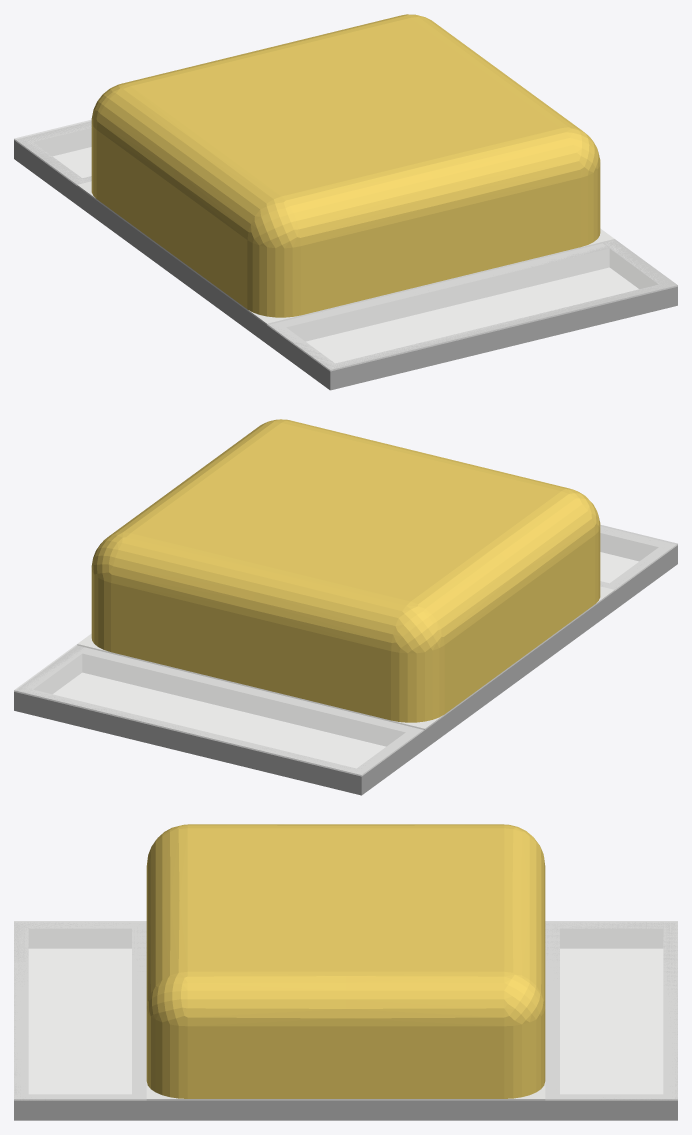
3 views of the same model, one above another, from view 1: azimuth 30°, elevation 25°; view 2: azimuth 150°, elevation 25°; view 3: azimuth 270°, elevation 25° (orthographic). The views are drawn at different scales.
Parts seen in each view (by area): view 1: instance_0.011, instance_0.008, instance_0.003, instance_0, instance_0.009, instance_0.010, instance_0.001; view 2: instance_0.011, instance_0.009, instance_0.003, instance_0.001, instance_0.008, instance_0.010, instance_0; view 3: instance_0.011, instance_0.003, instance_0.008, instance_0.009, instance_0, instance_0.001, instance_0.010.
Part boxes in pixels (x1,y1,x2,y2): instance_0.011: (91,14,600,317); instance_0.008: (267,239,677,371); instance_0.003: (14,121,677,390); instance_0: (287,249,657,340); instance_0.009: (14,119,91,185); instance_0.010: (77,181,614,324); instance_0.001: (34,128,91,155); instance_0.011: (91,419,600,722); instance_0.009: (14,644,424,776); instance_0.003: (14,526,677,795); instance_0.001: (34,654,404,745); instance_0.008: (600,524,677,590); instance_0.010: (77,586,614,729); instance_0: (600,533,657,560); instance_0.011: (146,824,545,1098); instance_0.003: (14,922,677,1120); instance_0.008: (14,921,146,1100); instance_0.009: (545,921,677,1100); instance_0: (29,929,131,948); instance_0.001: (560,929,662,948); instance_0.010: (146,1082,545,1100).
Size of the model in its own units: 0.73 by 1.15 by 0.2511.
